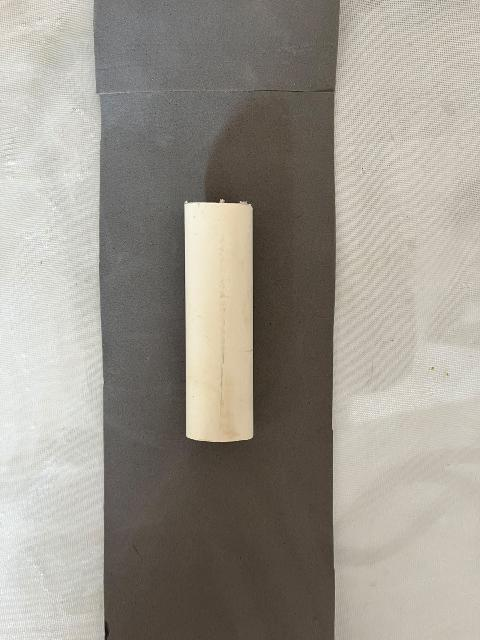PVC: (149, 171, 291, 475)
